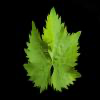grape leaf: (17, 7, 86, 94)
